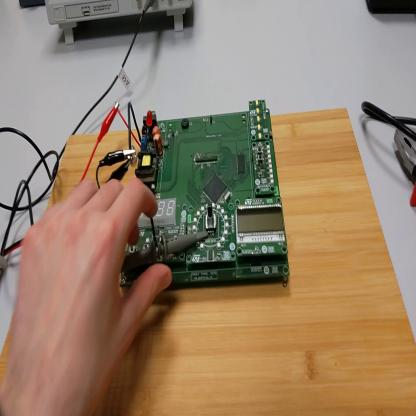hand: (8, 174, 173, 416)
low voltage board: (118, 88, 293, 288)
oscilloscope: (47, 2, 194, 42)
oscilloscope probe tip: (125, 230, 209, 274)
socket: (22, 2, 46, 9)
welder station: (368, 1, 415, 18)
working area: (2, 109, 416, 414)
